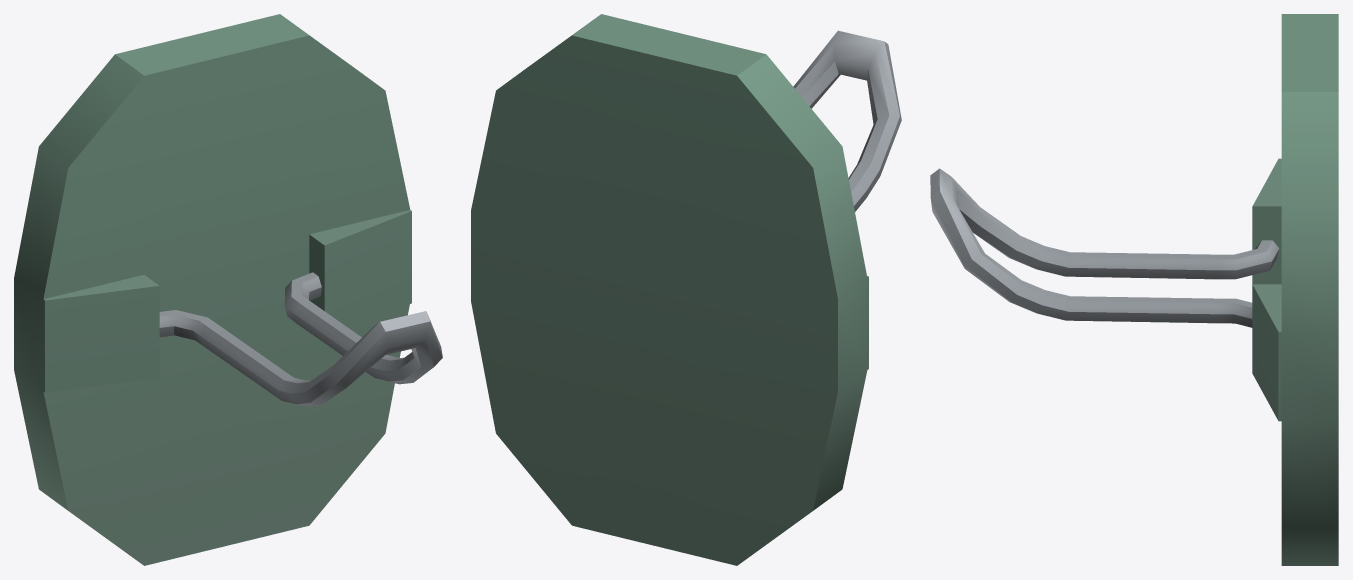
The model's file is wall hook.fbx.
3 renders of one model, left to right at view 1: azimuth 30°, elevation 25°; view 2: azimuth 150°, elevation 25°; view 3: azimuth 270°, elevation 25°, orthographic. The views are drawn at different scales.
Parts seen in each view (by area): view 1: hook2; view 2: hook2; view 3: hook2.
Boxes of the visible parts, box(x1,y1,x2,y2) form: hook2: box(14, 14, 442, 565); hook2: box(471, 14, 901, 565); hook2: box(930, 14, 1338, 565).
Size of the model in its own units: 63.6 by 81.2 by 63.36.
